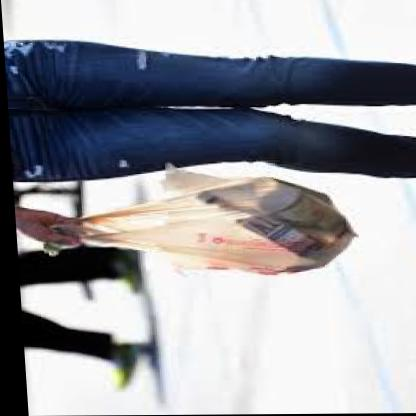Plastic: (35, 159, 362, 297)
